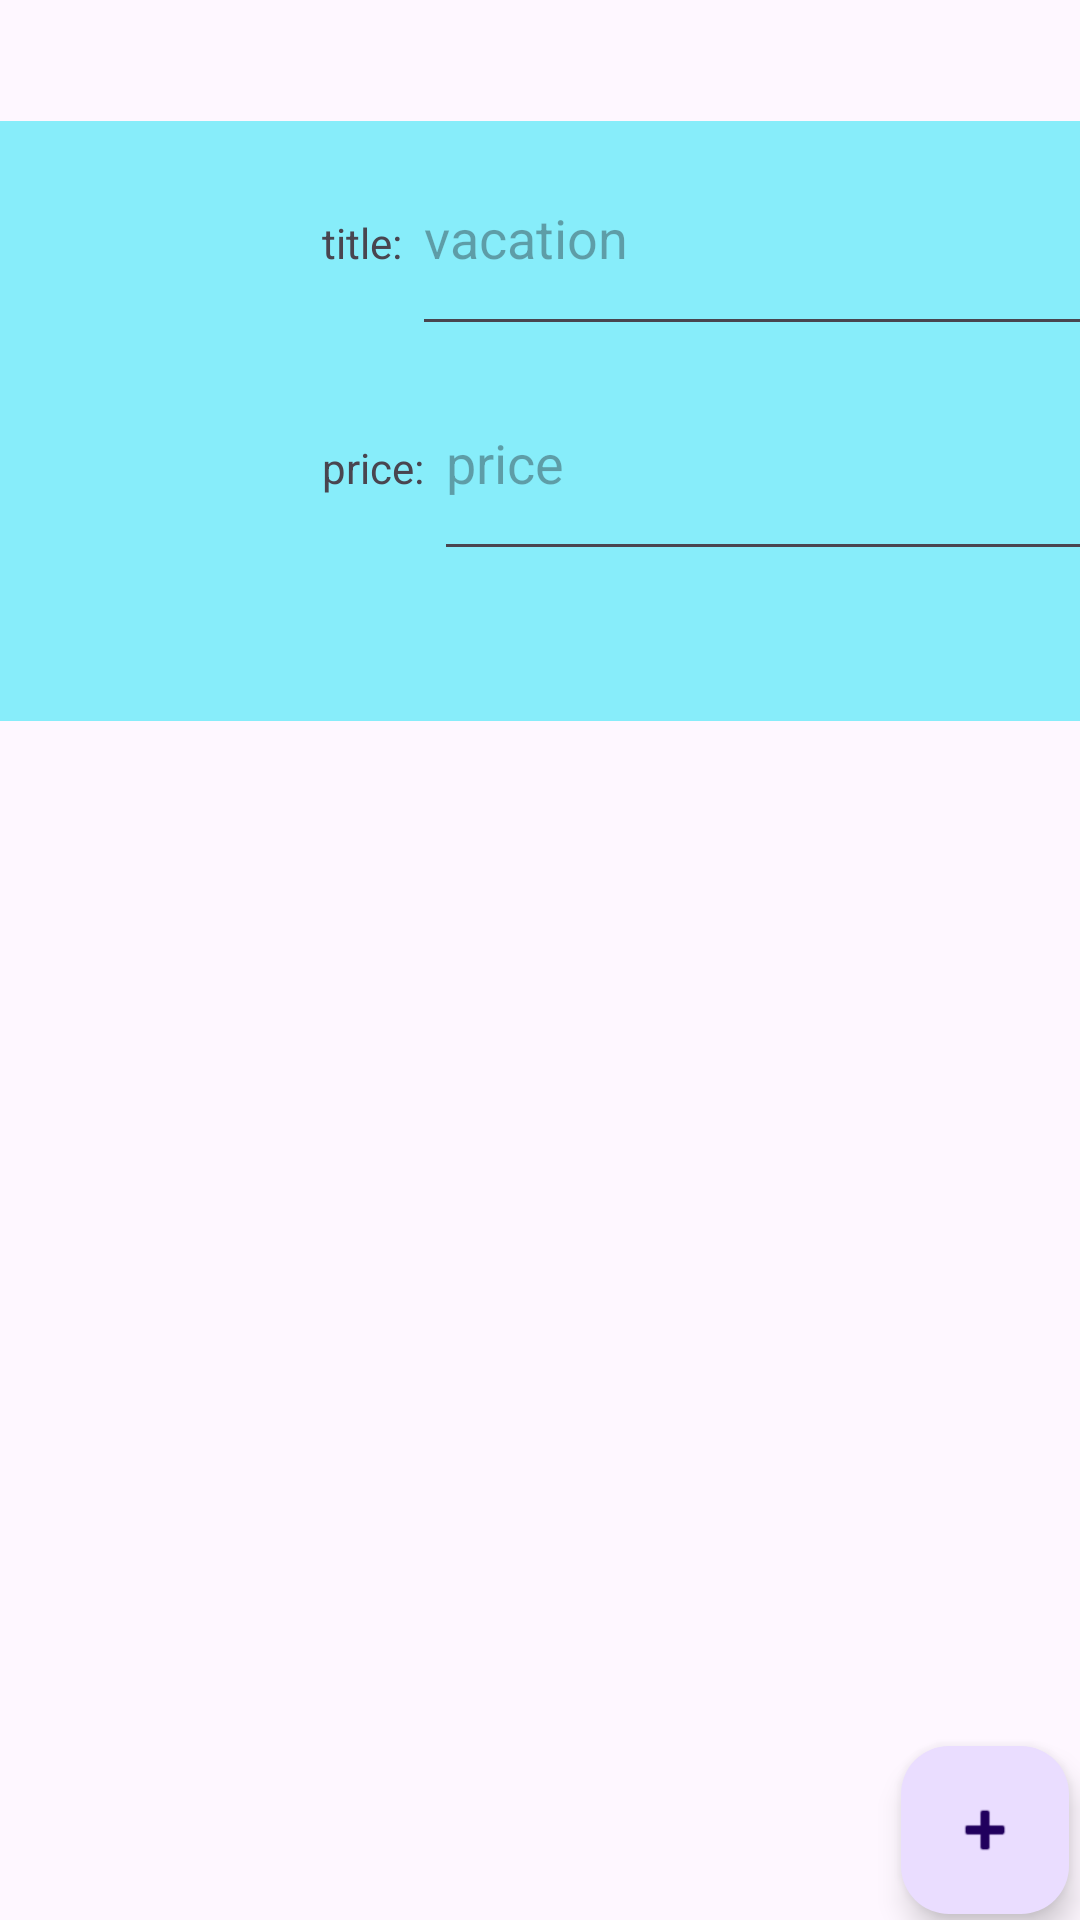

Where to tap for icons on this 1080×1920 app screen, as (x=x, y=y):
add: (x=985, y=1830)
